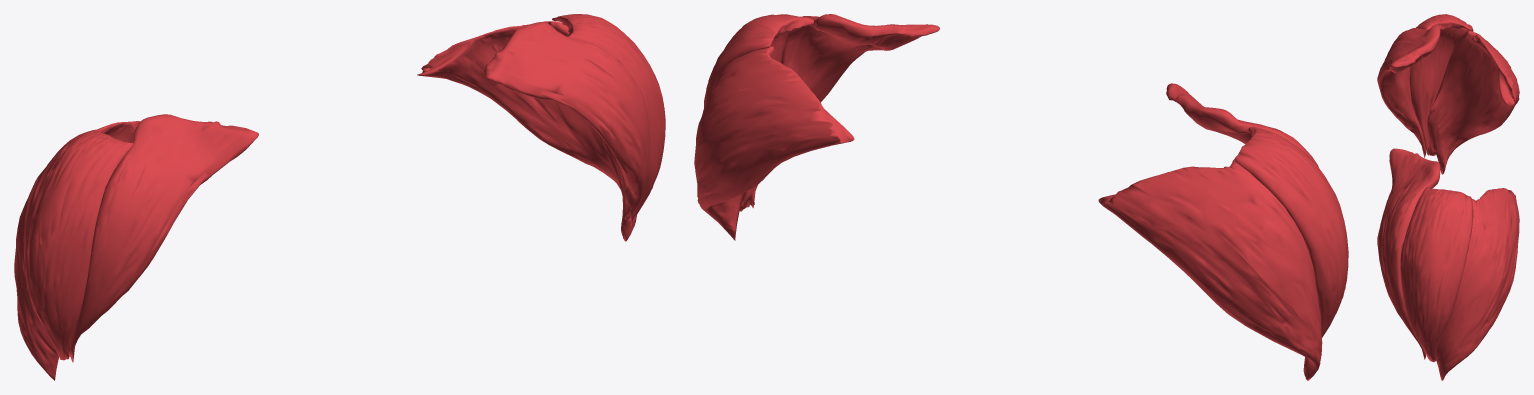
The model's file is shoulder.glb.
3 renders of one model, left to right at view 1: azimuth 30°, elevation 25°; view 2: azimuth 150°, elevation 25°; view 3: azimuth 270°, elevation 25°, orthographic. The views are drawn at different scales.
Visible parts, largest first — view 1: shoulder__selectable; view 2: shoulder__selectable; view 3: shoulder__selectable.
Boxes of the visible parts, x1,y1,x2,y2 form: shoulder__selectable: [14, 14, 665, 380]; shoulder__selectable: [694, 14, 1348, 380]; shoulder__selectable: [1377, 14, 1519, 380].
Bounding box in the file's own units: 0.4699 × 0.173 × 0.1234.
